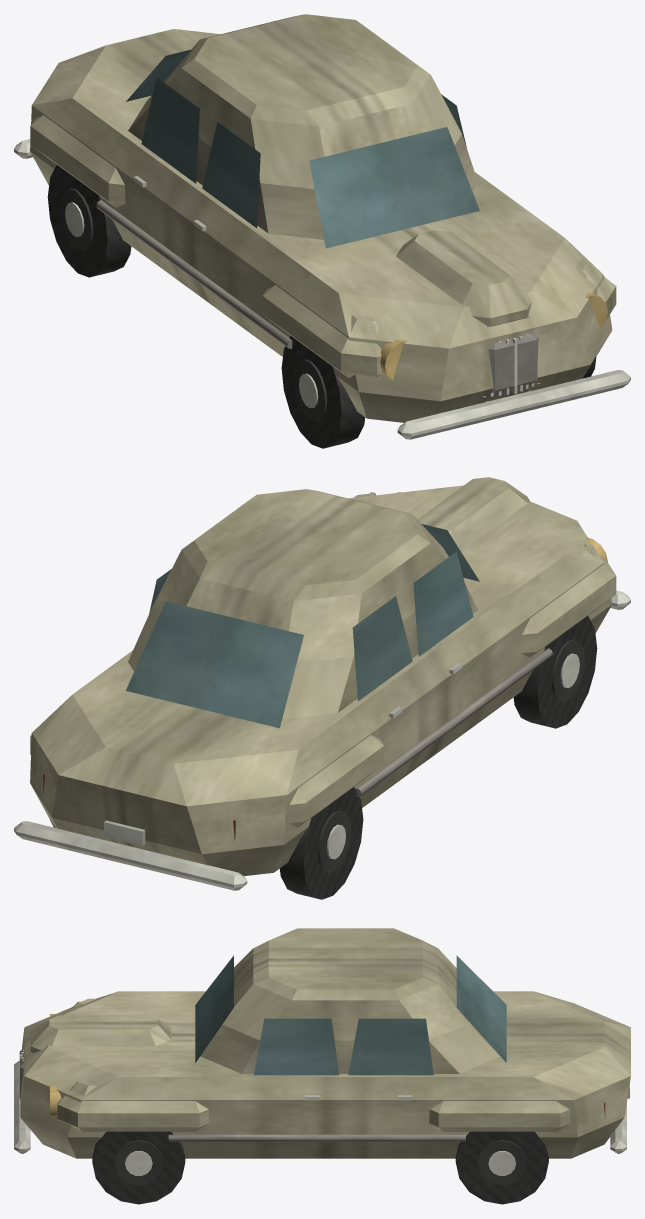
The model's file is ford-v8-cream.glb.
3 views of the same model, one above another, from view 1: azimuth 30°, elevation 25°; view 2: azimuth 150°, elevation 25°; view 3: azimuth 270°, elevation 25° (orthographic). The views are drawn at different scales.
Visible parts, largest first — view 1: Ford V8 | Elfenbein; view 2: Ford V8 | Elfenbein; view 3: Ford V8 | Elfenbein.
Boxes of the visible parts, box(x1,y1,x2,y2) form: Ford V8 | Elfenbein: box(14, 14, 630, 448); Ford V8 | Elfenbein: box(14, 477, 630, 899); Ford V8 | Elfenbein: box(14, 928, 630, 1204).
Size of the model in its own units: 1.91 by 1.68 by 4.77.
Materials: 1 (1 with a texture image).
